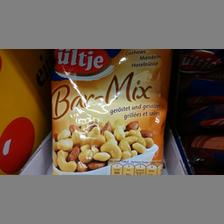Nuss: (49, 48, 171, 176)
